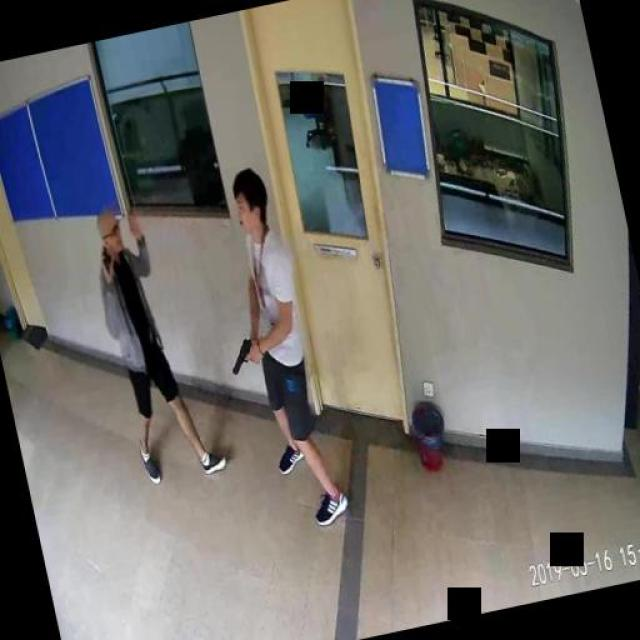gun: (224, 335, 254, 371)
